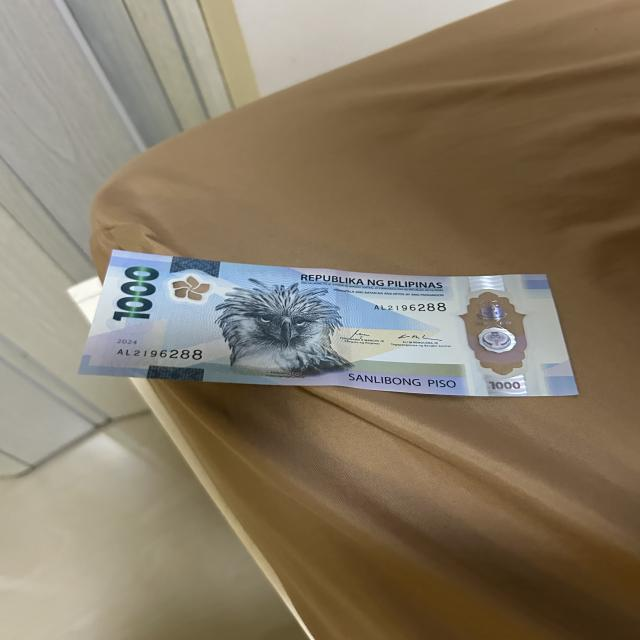clear_window: (461, 285, 534, 378)
eagle: (222, 273, 346, 377)
sampaguita: (168, 276, 211, 308)
